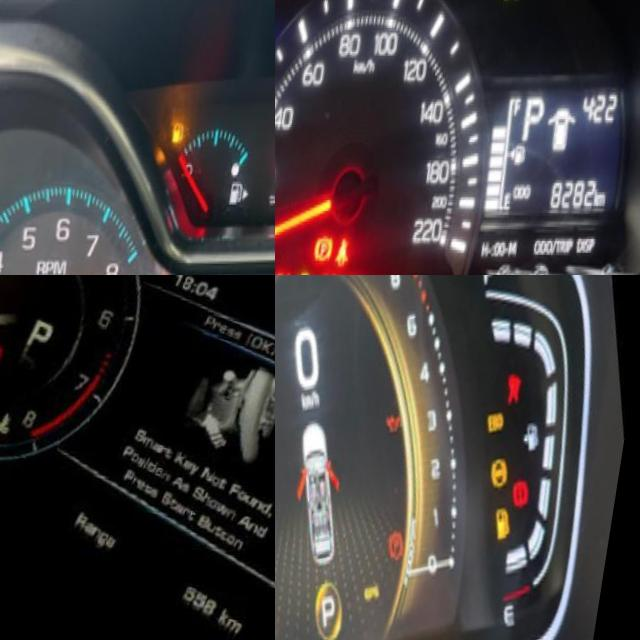Engine cooling system: (0, 407, 24, 441)
Low fuel level: (497, 497, 532, 545)
Seat Belt: (347, 234, 367, 267)
